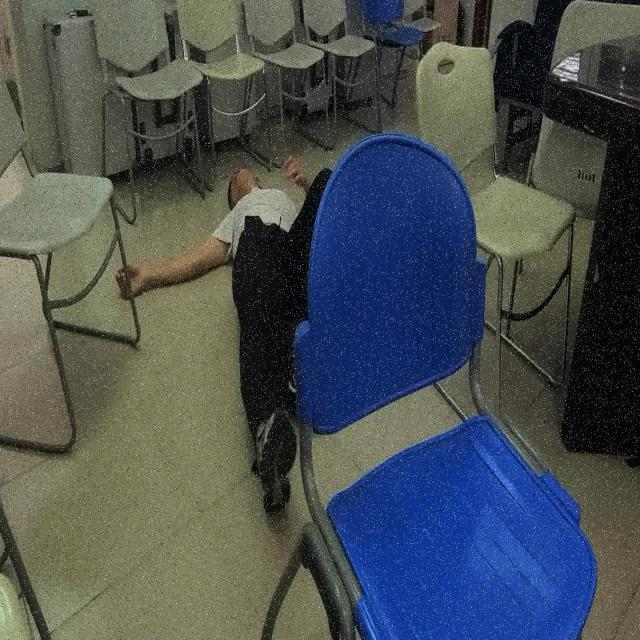fall: (114, 156, 334, 518)
